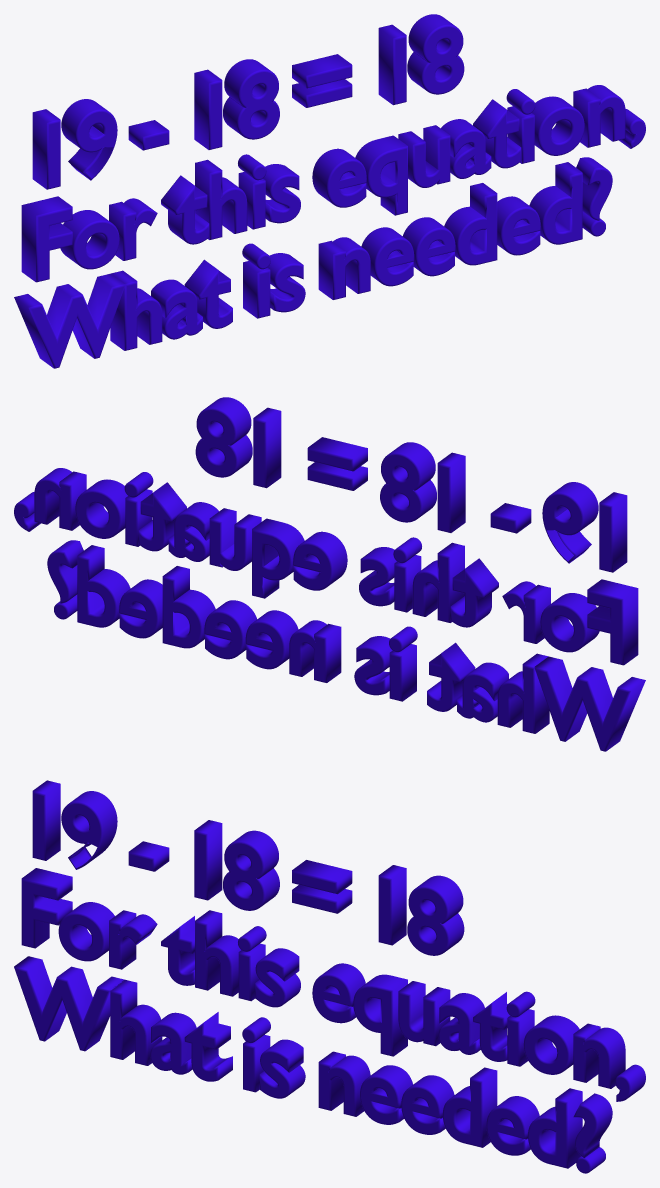
File: Quiz.fbx
3 views of the same model, one above another, from view 1: azimuth 30°, elevation 25°; view 2: azimuth 150°, elevation 25°; view 3: azimuth 330°, elevation 25° (orthographic).
Visible parts, largest first — view 1: 오브젝트; view 2: 오브젝트; view 3: 오브젝트.
Part boxes in pixels (x1,y1,x2,y2): 오브젝트: (14, 14, 645, 368); 오브젝트: (14, 397, 645, 751); 오브젝트: (14, 780, 645, 1173).
Size of the model in its own units: 717 by 276 by 32.
